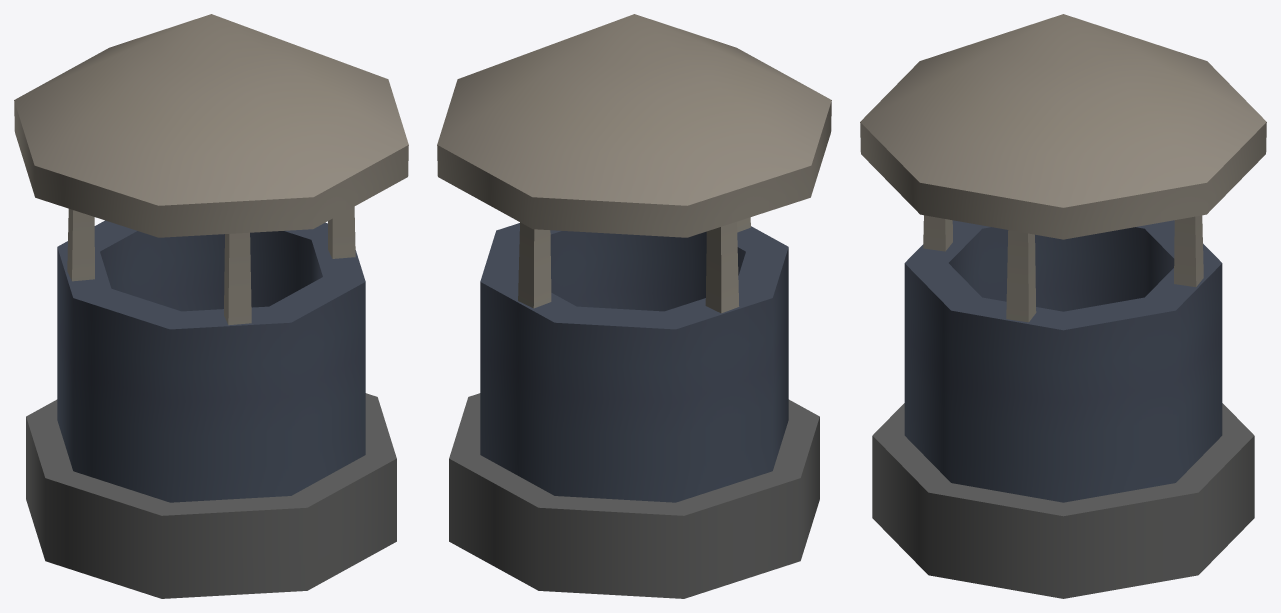
The model's file is Chimney_1_C_5.glb.
3 renders of one model, left to right at view 1: azimuth 30°, elevation 25°; view 2: azimuth 150°, elevation 25°; view 3: azimuth 270°, elevation 25°, orthographic.
Visible parts, largest first — view 1: Chimney_1_C_5; view 2: Chimney_1_C_5; view 3: Chimney_1_C_5.
Part boxes in pixels (bbox=[...]): Chimney_1_C_5: bbox=[14, 14, 408, 598]; Chimney_1_C_5: bbox=[437, 14, 831, 598]; Chimney_1_C_5: bbox=[860, 14, 1266, 598].
Size of the model in its own units: 0.4917 by 0.6727 by 0.4917.
Materials: 2 (2 with a texture image).
